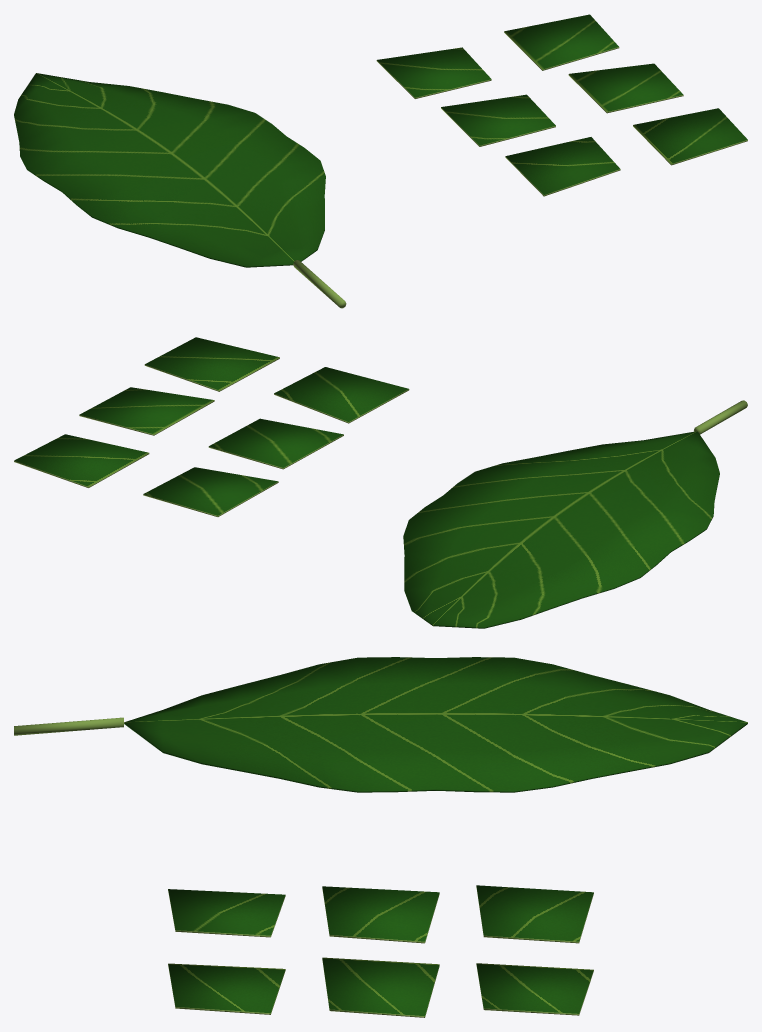
The model's file is VLAB_leaf.fbx.
The picture shows the model from 3 angles, top to bottom: view 1: azimuth 30°, elevation 25°; view 2: azimuth 150°, elevation 25°; view 3: azimuth 270°, elevation 25°; orthographic projection. The views are drawn at different scales.
Visible parts, largest first — view 1: VLAB_leaf_Leaf_VIS, VLAB_leaf_LeafPieces_VIS; view 2: VLAB_leaf_Leaf_VIS, VLAB_leaf_LeafPieces_VIS; view 3: VLAB_leaf_Leaf_VIS, VLAB_leaf_LeafPieces_VIS.
Part boxes in pixels (x1=…): VLAB_leaf_Leaf_VIS: x1=14, y1=73, x2=346, y2=308; VLAB_leaf_LeafPieces_VIS: x1=376, y1=14, x2=747, y2=196; VLAB_leaf_Leaf_VIS: x1=403, y1=400, x2=747, y2=628; VLAB_leaf_LeafPieces_VIS: x1=14, y1=337, x2=409, y2=516; VLAB_leaf_Leaf_VIS: x1=14, y1=657, x2=747, y2=792; VLAB_leaf_LeafPieces_VIS: x1=168, y1=885, x2=593, y2=1017.
Bounding box in the file's own units: 0.1111 × 0.004 × 0.1.
